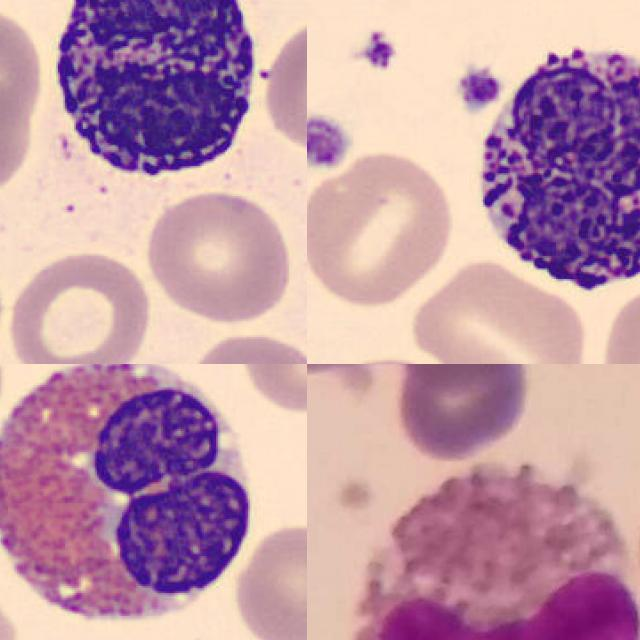Basophil: (461, 28, 640, 310), (37, 0, 272, 198)
Eosinophil: (0, 364, 269, 640), (356, 464, 640, 640)
Platelets: (307, 111, 355, 173), (453, 62, 504, 115), (357, 27, 401, 74)
RBC: (307, 147, 458, 309), (404, 252, 600, 364), (142, 185, 293, 325), (3, 249, 154, 364), (232, 519, 307, 640), (260, 12, 307, 157), (0, 0, 45, 127), (0, 83, 40, 201), (179, 330, 307, 364), (235, 364, 307, 417)
